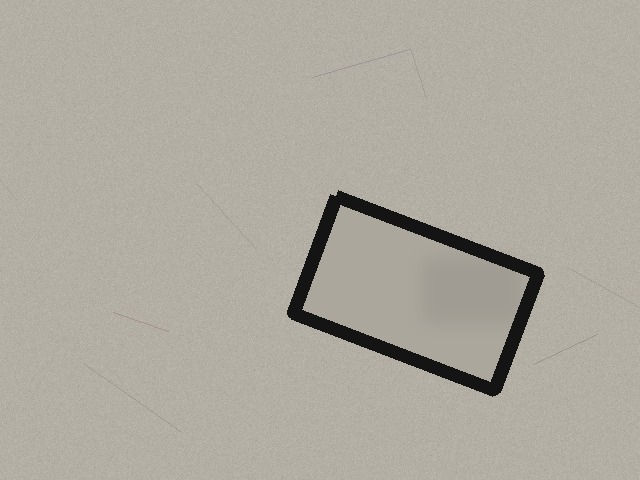parking_area: (293, 196, 538, 390)
